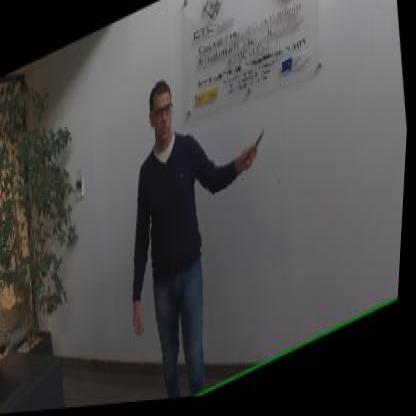knife: (241, 126, 272, 179)
